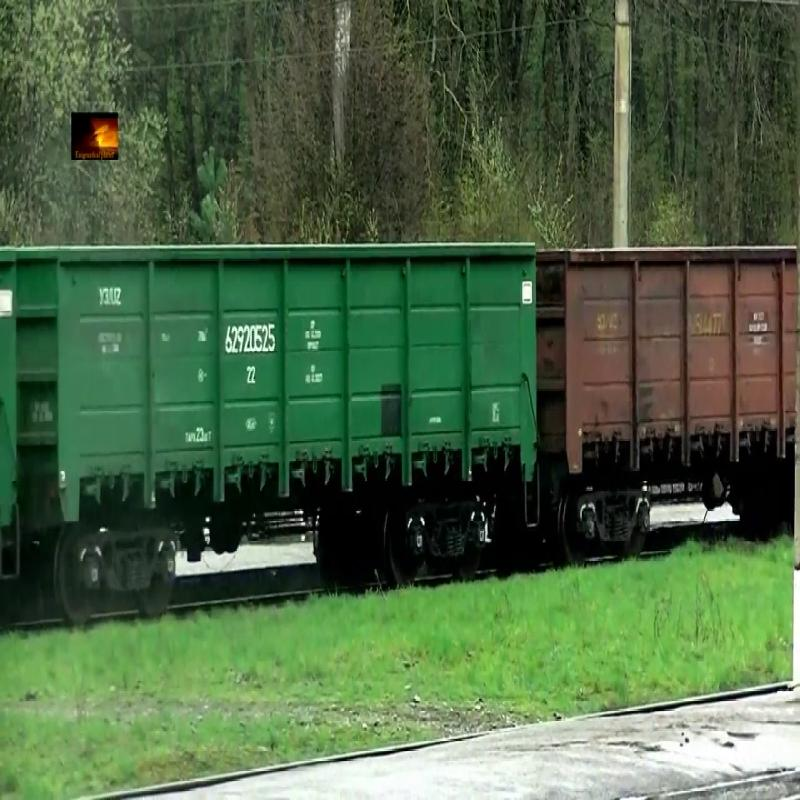train: (19, 245, 537, 521), (537, 245, 799, 474), (1, 247, 19, 521)
